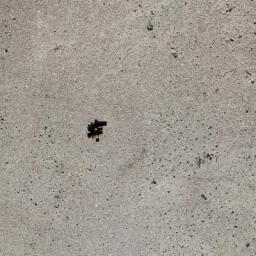FOD: (87, 118, 110, 148)
